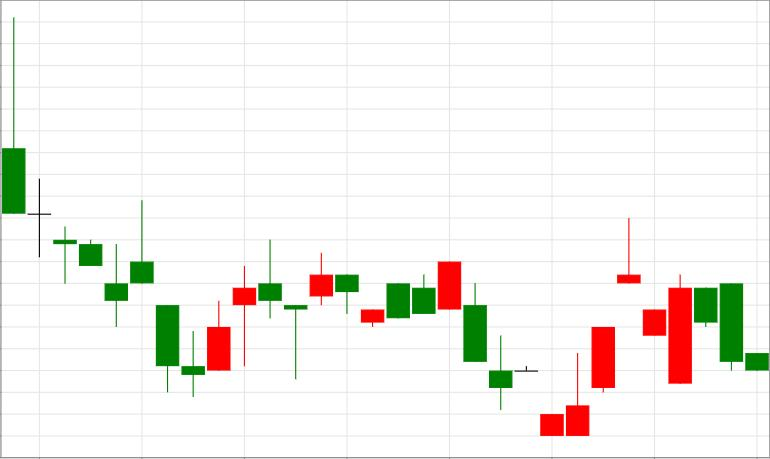inverse_hammer_rise: (438, 261, 589, 437)
morning_star_rise: (3, 18, 231, 397)
